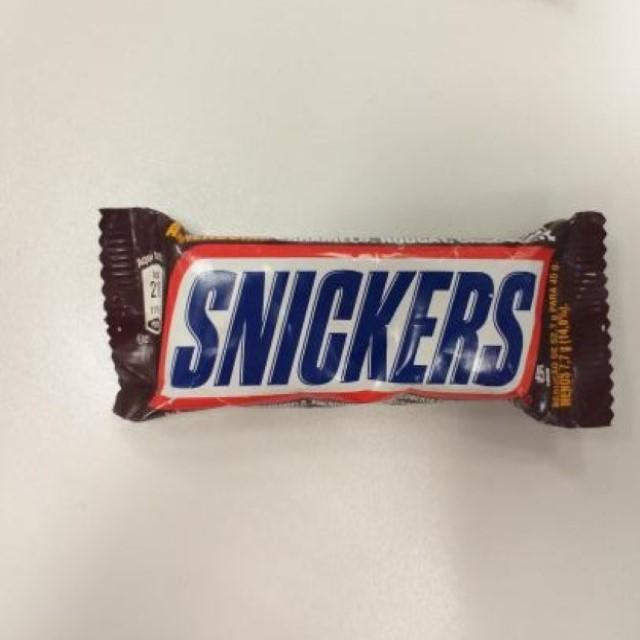snickers_chocolate: (102, 242, 610, 408)
